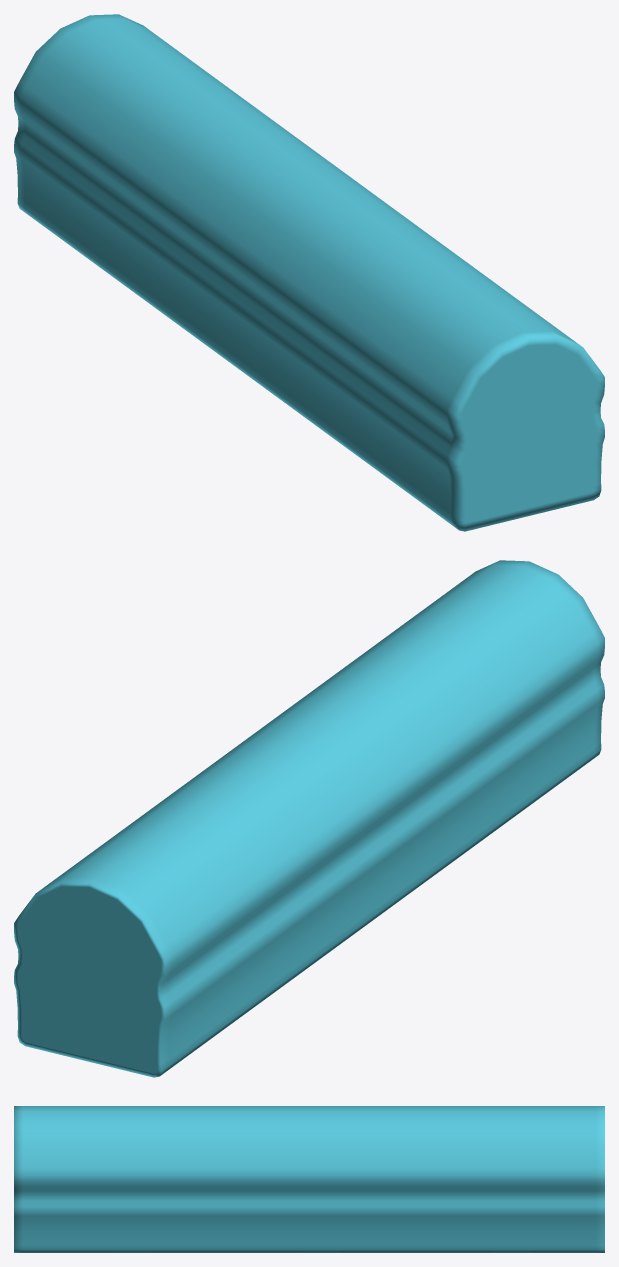
File: part_body_05.fbx
The picture shows the model from 3 angles, top to bottom: view 1: azimuth 30°, elevation 25°; view 2: azimuth 150°, elevation 25°; view 3: azimuth 270°, elevation 25°; orthographic projection. The views are drawn at different scales.
Parts seen in each view (by area): view 1: part_body_05; view 2: part_body_05; view 3: part_body_05.
Boxes of the visible parts, x1=… form: part_body_05: x1=14, y1=14, x2=604, y2=531; part_body_05: x1=14, y1=560, x2=604, y2=1077; part_body_05: x1=14, y1=1106, x2=604, y2=1252.
Size of the model in its own units: 5.95 by 6.72 by 30.
